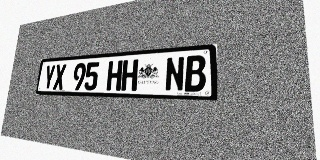5: (84, 62, 99, 90)
9: (72, 63, 87, 90)
B: (185, 55, 206, 92)
H: (121, 59, 138, 91), (106, 60, 123, 91)
N: (165, 56, 185, 92)
X: (53, 64, 66, 90)
Y: (43, 65, 56, 90)
